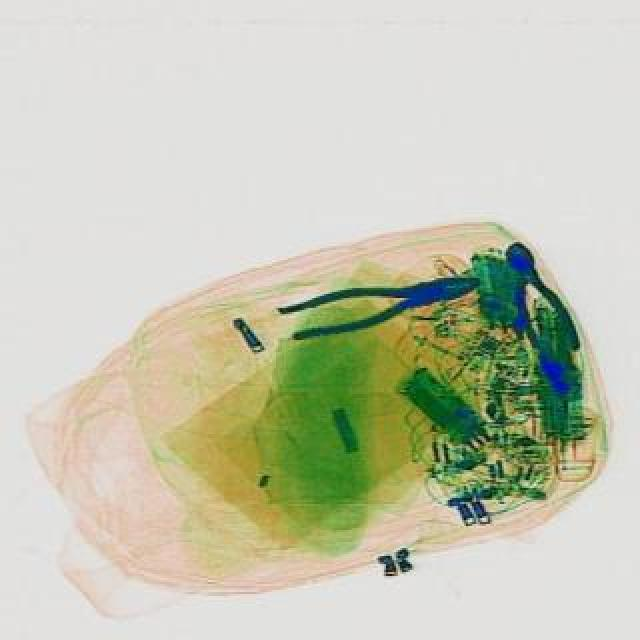wrench: (274, 258, 484, 346), (488, 234, 580, 362)
